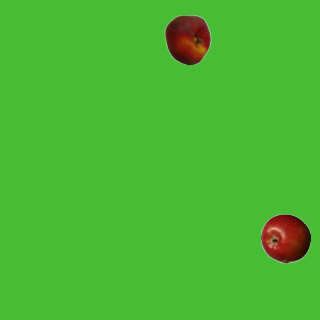Apple Braeburn: (260, 213, 310, 263)
Nectarine Flat: (162, 14, 212, 64)
